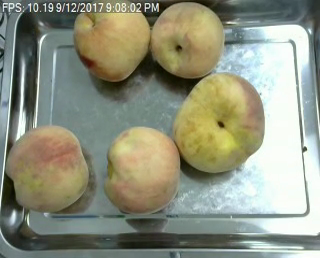Peach: (173, 73, 266, 173), (8, 124, 90, 213), (103, 125, 180, 214), (74, 0, 151, 81), (150, 1, 224, 78)
